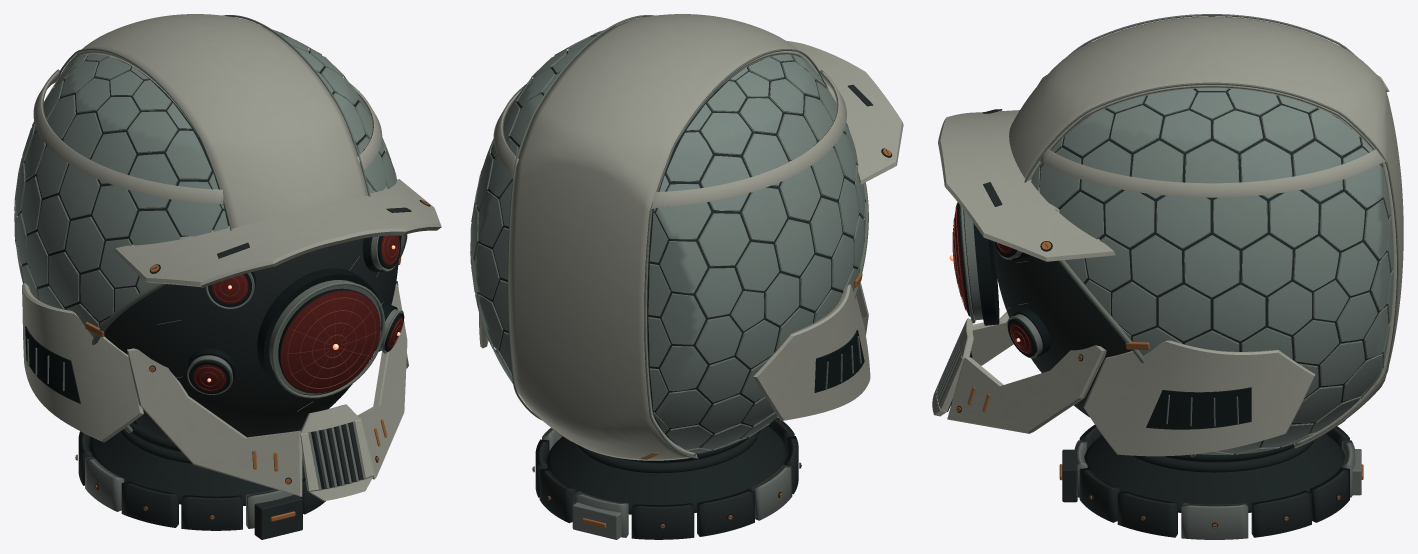
The picture shows the model from 3 angles, left to right: view 1: azimuth 30°, elevation 25°; view 2: azimuth 150°, elevation 25°; view 3: azimuth 270°, elevation 25°; orthographic projection. The views are drawn at different scales.
Parts seen in each view (by area): view 1: SURFACE_SHELL, SURFACE_CROWN_BAND, SURFACE_JAW, SURFACE_FACEPLATE, SURFACE_COLLAR, OPTICAL_GLASS, SURFACE_OPTICS, SURFACE_RESPIRATOR; view 2: SURFACE_SHELL, SURFACE_CROWN_BAND, SURFACE_COLLAR, SURFACE_JAW; view 3: SURFACE_SHELL, SURFACE_CROWN_BAND, SURFACE_JAW, SURFACE_COLLAR, SURFACE_FACEPLATE, SURFACE_OPTICS, SURFACE_RESPIRATOR, OPTICAL_GLASS.
Boxes of the visible parts, x1,y1,x2,y2 form: SURFACE_SHELL: (14,26,441,433); SURFACE_CROWN_BAND: (57,14,370,230); SURFACE_JAW: (22,281,408,496); SURFACE_FACEPLATE: (104,238,398,439); SURFACE_COLLAR: (75,421,325,539); OPTICAL_GLASS: (192,235,402,393); SURFACE_OPTICS: (187,235,404,398); SURFACE_RESPIRATOR: (300,404,373,501); SURFACE_SHELL: (470,27,903,459); SURFACE_CROWN_BAND: (507,14,828,460); SURFACE_COLLAR: (532,417,801,539); SURFACE_JAW: (479,282,870,420); SURFACE_SHELL: (938,75,1393,457); SURFACE_CROWN_BAND: (1009,14,1403,448); SURFACE_JAW: (947,312,1315,456); SURFACE_COLLAR: (1059,424,1363,539); SURFACE_FACEPLATE: (993,241,1131,417); SURFACE_OPTICS: (958,203,1050,358); SURFACE_RESPIRATOR: (932,318,973,416); OPTICAL_GLASS: (952,202,1032,353).
Bounding box in the file's own units: 0.298 × 0.3643 × 0.3419.
